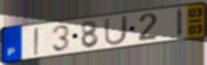2: (137, 12, 160, 43)
3: (51, 24, 71, 52)
8: (80, 20, 101, 49)
I: (175, 7, 184, 39), (33, 27, 41, 57)
U: (103, 14, 130, 47)
